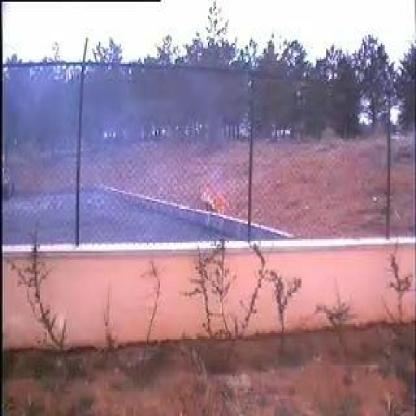-: (50, 61, 200, 241)
